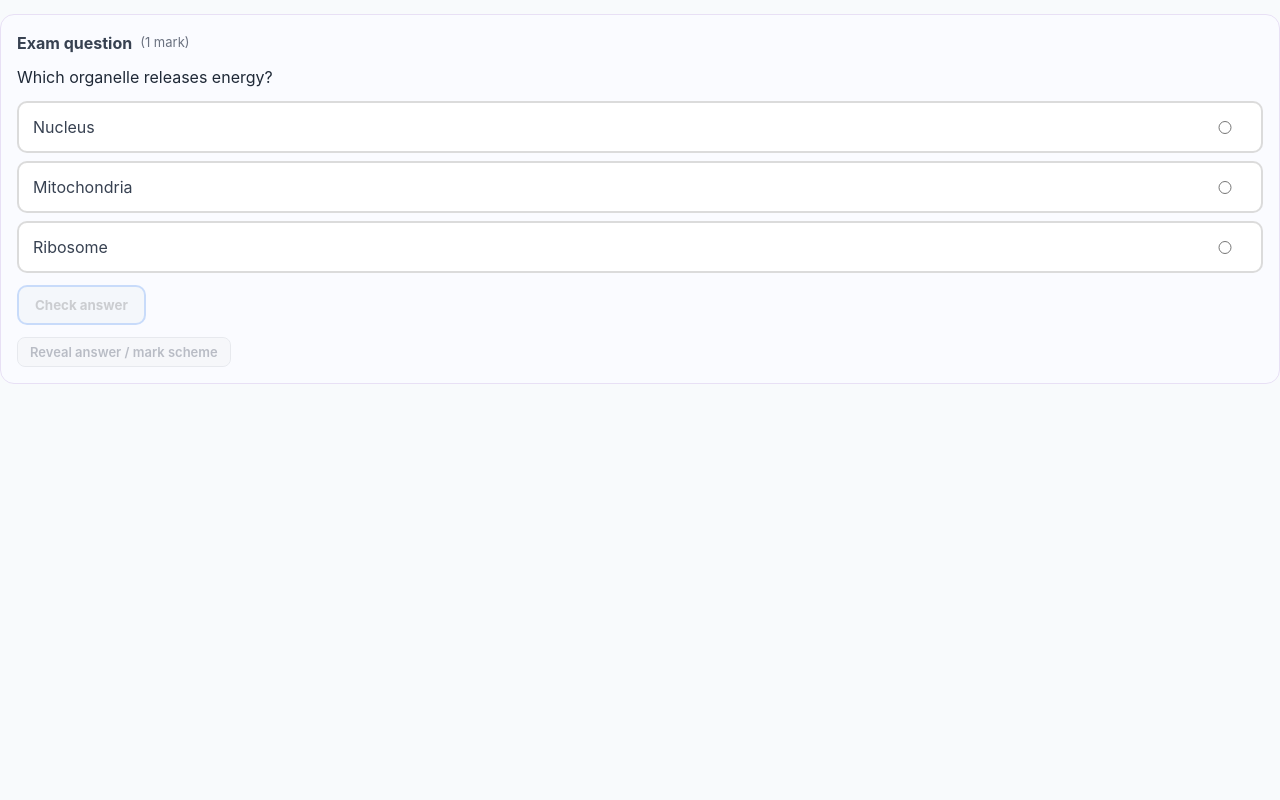
it: ExamQuestionBlock single question marking › single MCQ marks wrong answer 0/1 with green/red styling
Click the button "Nucleus": (64, 127) [17,101,1263,153]
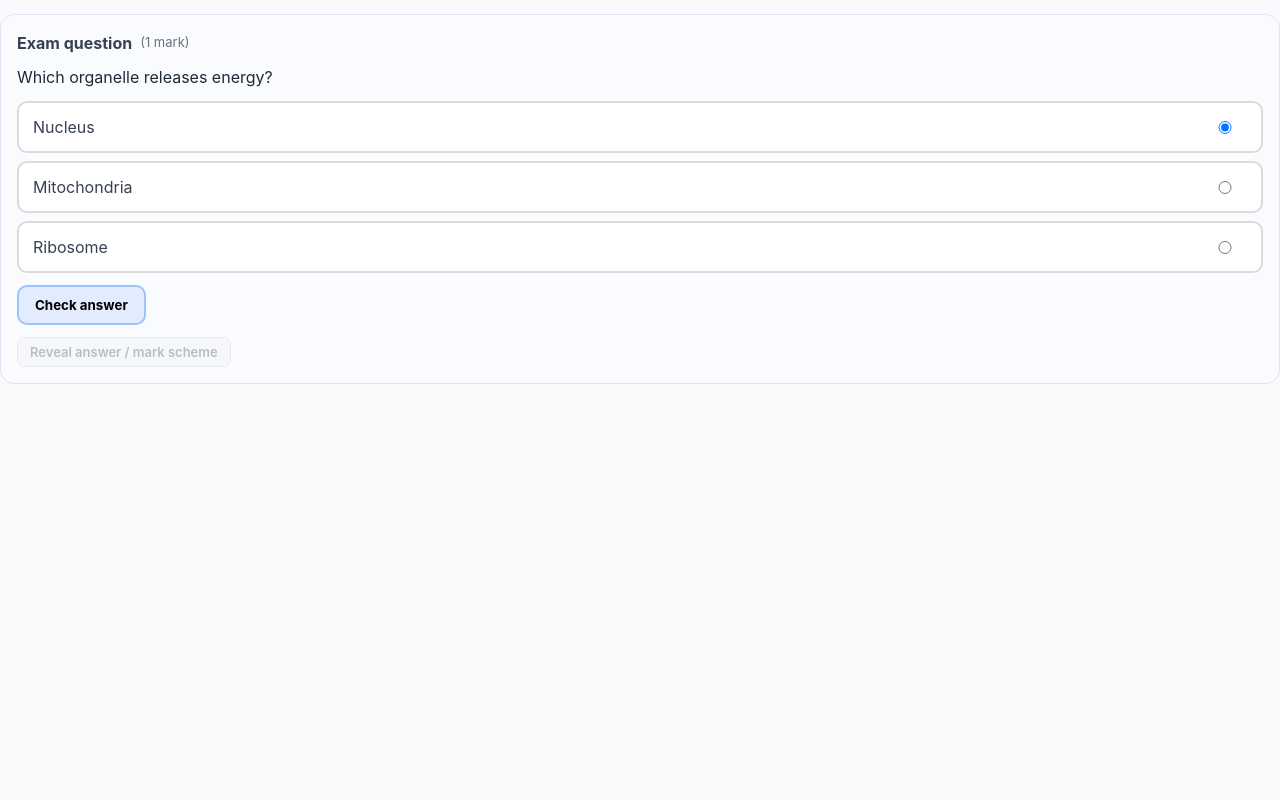
Click the button "Check answer": (81, 305) [17,285,146,325]
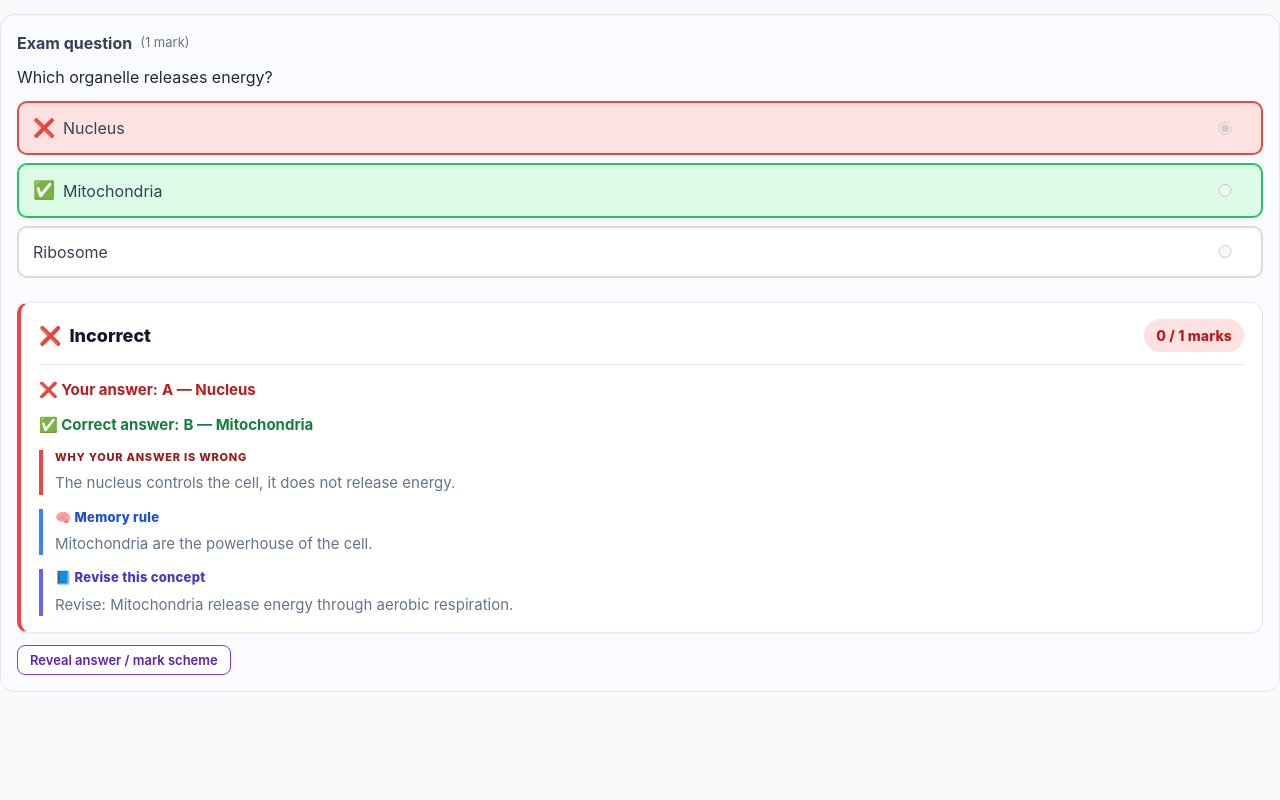
Result: the element with test id "answer-feedback-hero" shows "Incorrect" at [70,325,151,346]
Result: the text with test id "answer-feedback-score-badge" reads "0 / 1 marks" at [1144,319,1244,352]
Result: the element with test id "answer-feedback-correct-answer" is shown at [39,415,313,434]
